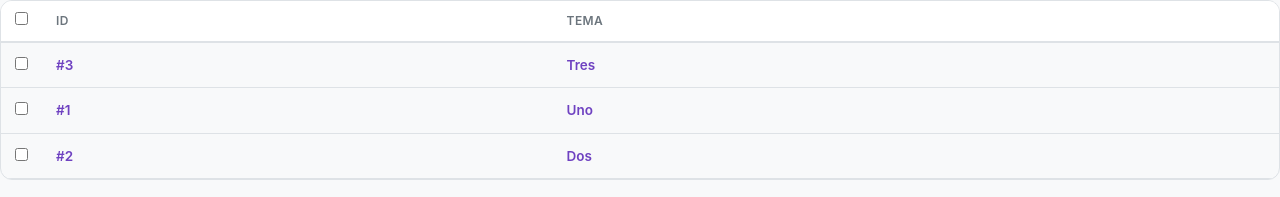
TicketsTableView — sort by ID (#112) › shows ascending indicator (↑) after first click
Click the column heading "ID": (62,20) [42,1,553,42]
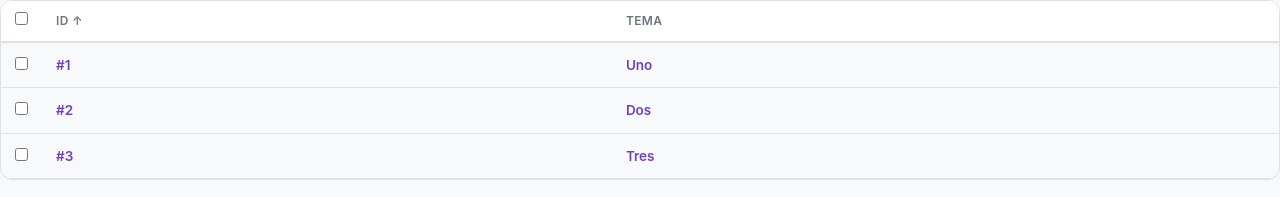
Check: the column heading "ID ↑" is shown, box [42,1,612,42]
